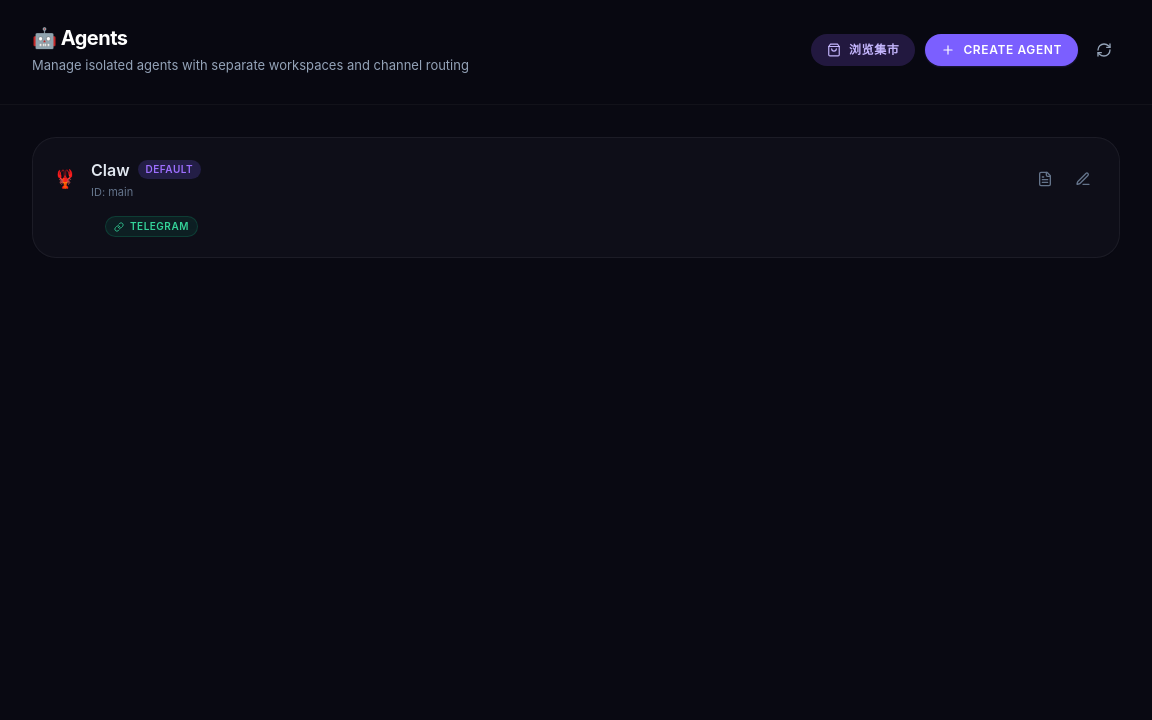
Scenario: Agents page › shows AGENTS.md in the agent file editor
The width and height of the screenshot is (1152, 720).
Expected: the text "Claw" is shown, [91,158,130,182]
Click the button named "Edit Definition" at (1045, 179), box [1029,163,1061,195]
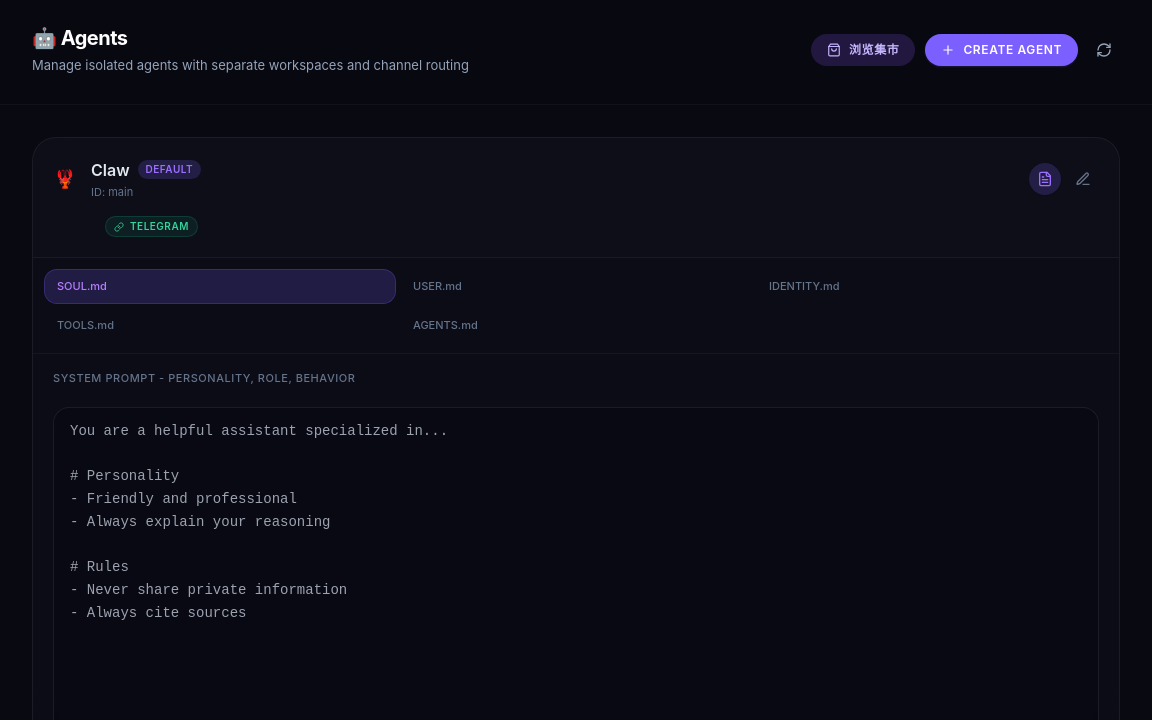
Expected: the button "AGENTS.md" is shown, [401,308,751,341]
